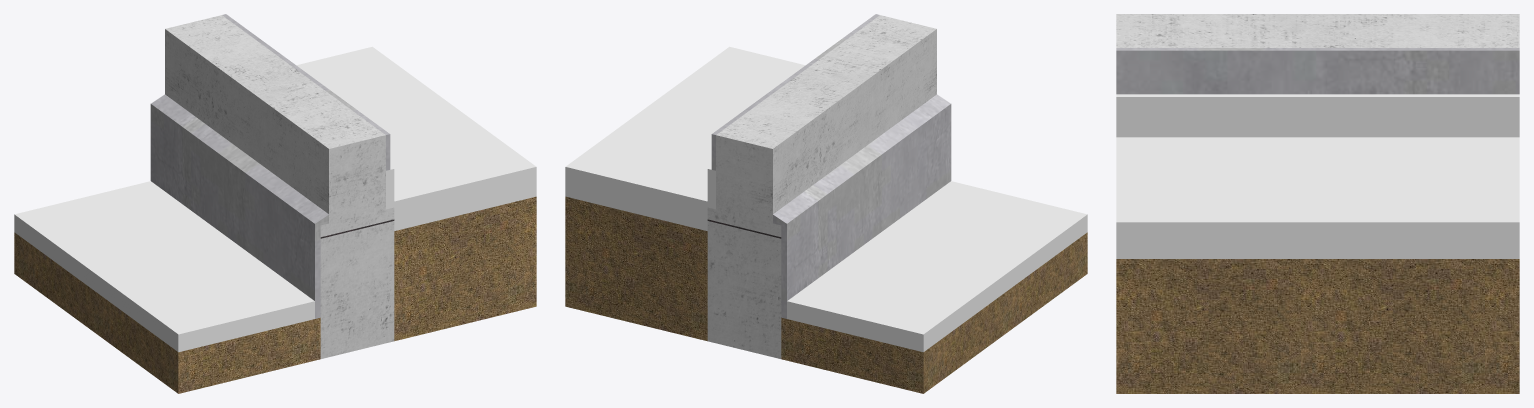
Rendered from plaster-plinth.glb.
The picture shows the model from 3 angles, left to right: view 1: azimuth 30°, elevation 25°; view 2: azimuth 150°, elevation 25°; view 3: azimuth 270°, elevation 25°; orthographic projection. The views are drawn at different scales.
Visible parts, largest first — view 1: 室内外垫层, 墙体, 素土夯实, 抹灰; view 2: 室内外垫层, 墙体, 素土夯实, 抹灰; view 3: 室内外垫层, 素土夯实, 抹灰, 墙体.
Part boxes in pixels (bbox=[...]): 室内外垫层: bbox=[14, 46, 536, 352]; 墙体: bbox=[165, 15, 394, 358]; 素土夯实: bbox=[14, 196, 536, 393]; 抹灰: bbox=[150, 14, 390, 318]; 室内外垫层: bbox=[565, 46, 1087, 352]; 墙体: bbox=[707, 15, 936, 358]; 素土夯实: bbox=[565, 196, 1087, 393]; 抹灰: bbox=[711, 14, 951, 318]; 室内外垫层: bbox=[1116, 94, 1519, 258]; 素土夯实: bbox=[1116, 259, 1519, 393]; 抹灰: bbox=[1116, 48, 1519, 94]; 墙体: bbox=[1116, 14, 1519, 47].
Size of what is drawn, in the model's own units: 1.26 by 0.7 by 1.
5 materials, 4 textured.
